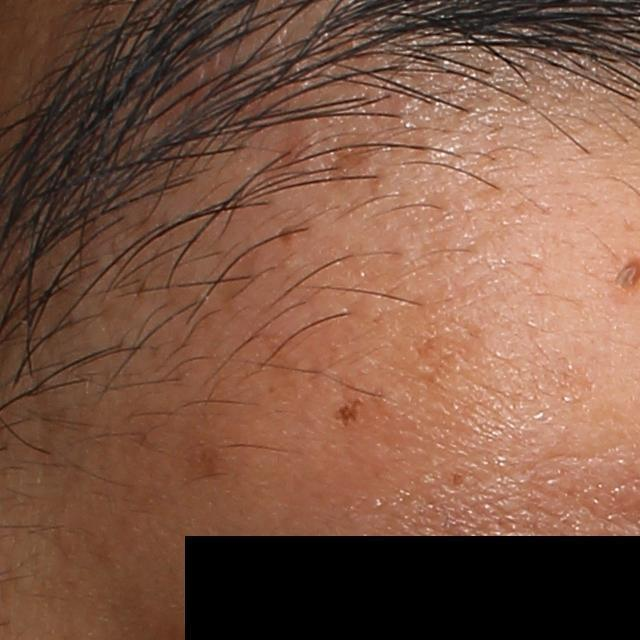nevus: (332, 395, 365, 432)
